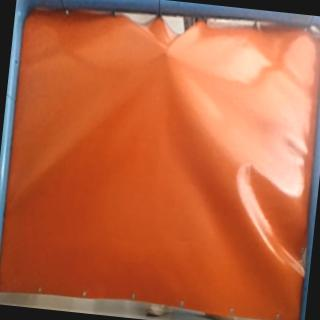Hit-hRxx: (158, 42, 178, 61)
